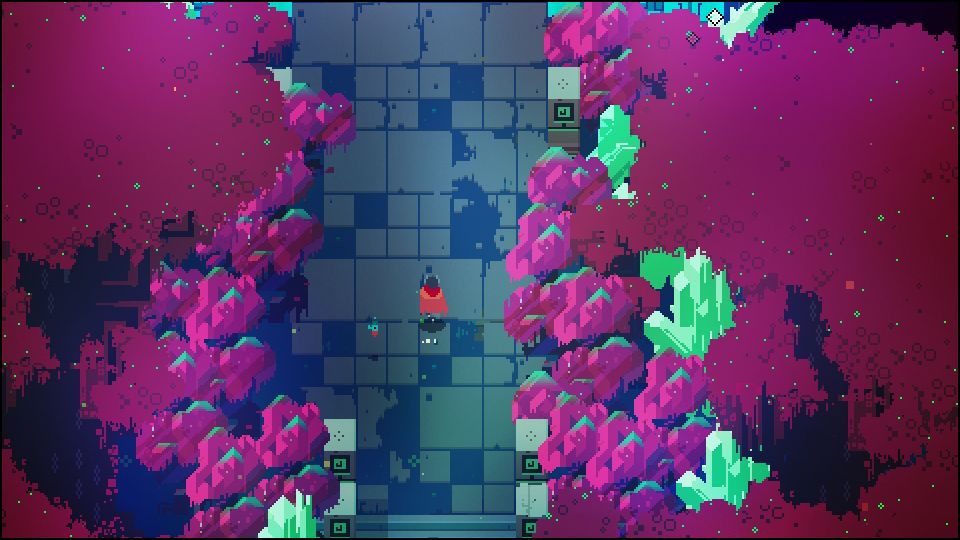player: (415, 271, 448, 332)
